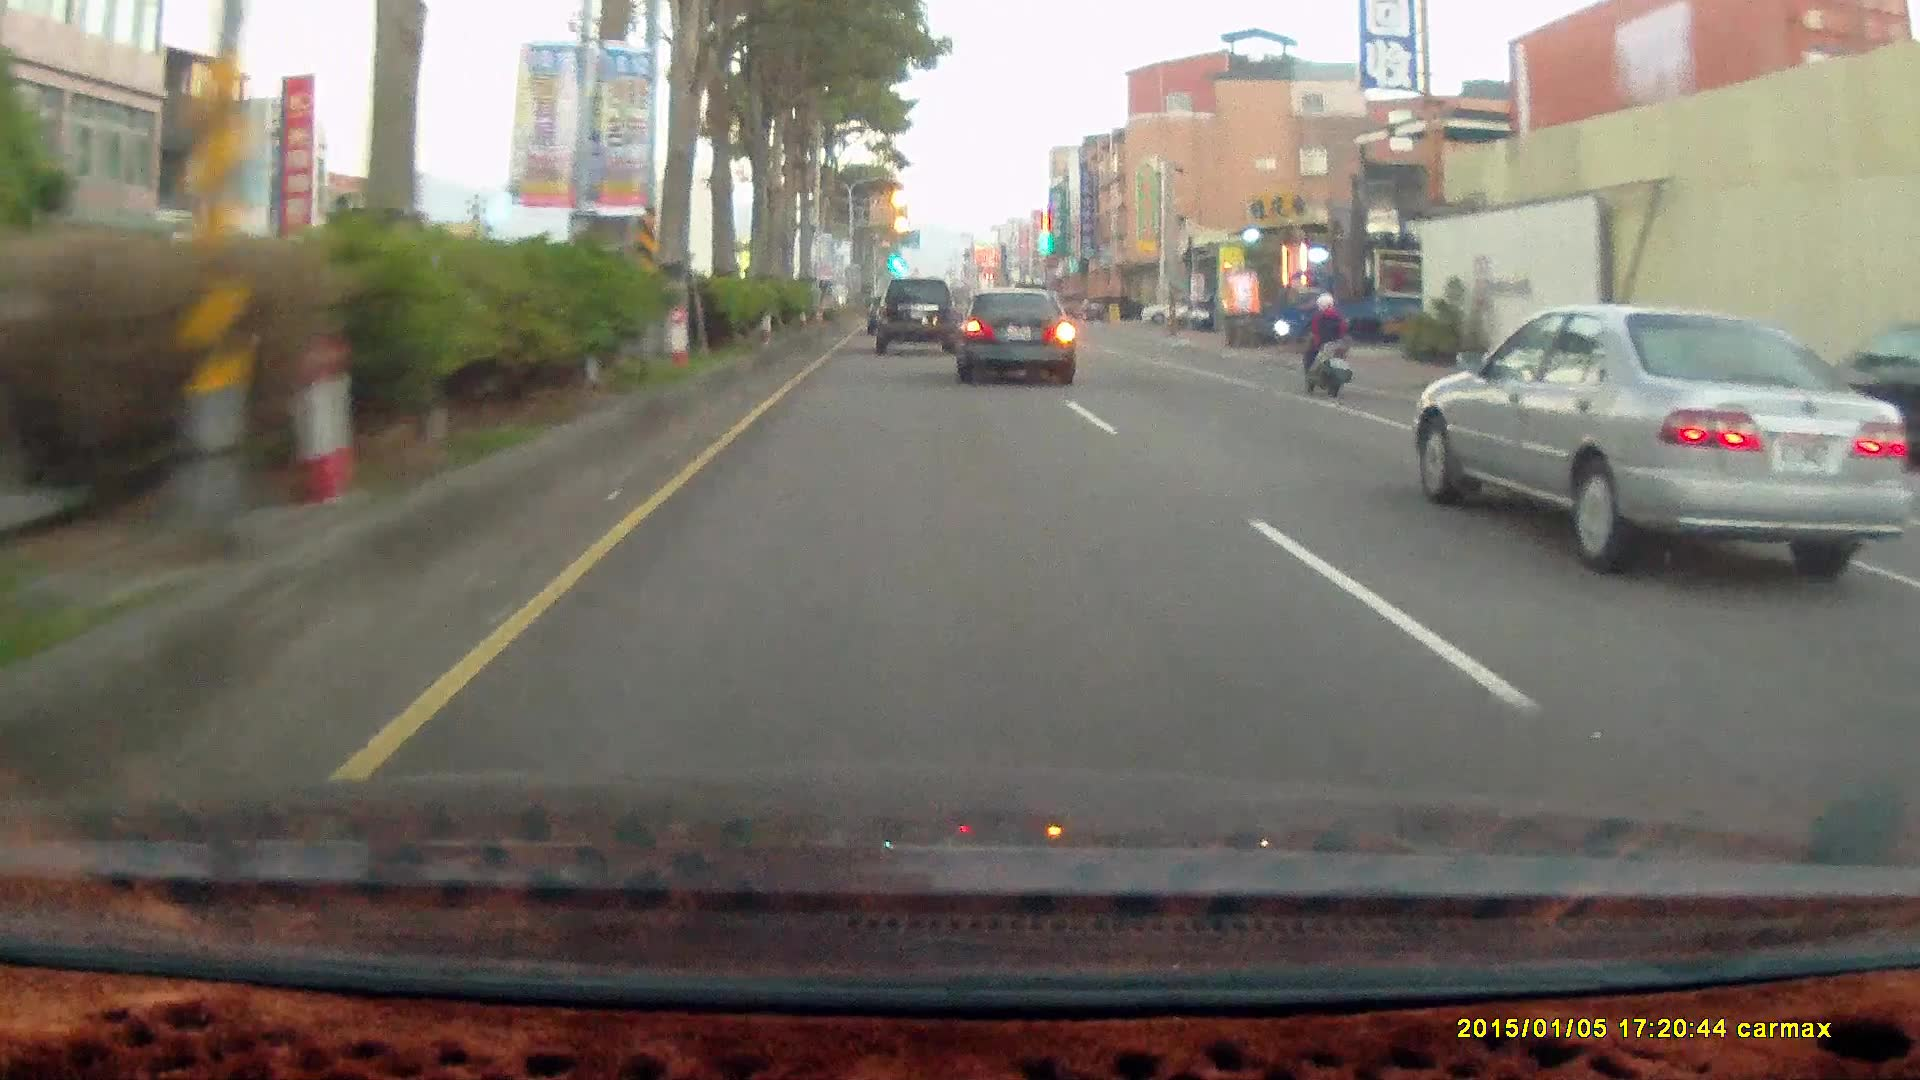rider: (1287, 283, 1364, 406), (1295, 290, 1352, 398)
vehicle: (1416, 305, 1905, 577), (1414, 302, 1897, 568), (1270, 269, 1472, 355), (951, 287, 1076, 387), (1276, 269, 1430, 348), (961, 294, 1085, 389), (874, 279, 958, 353), (877, 282, 960, 354), (1139, 296, 1203, 326), (1085, 294, 1150, 320)
